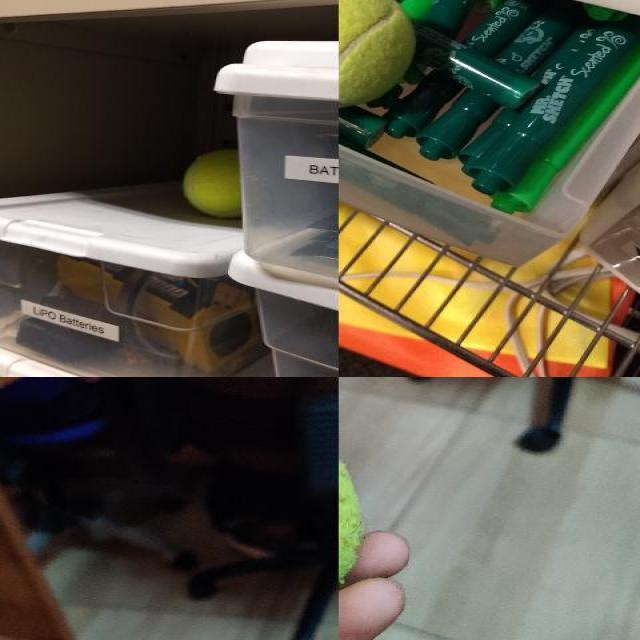tennis-ball: (339, 0, 421, 111), (181, 148, 239, 219)
